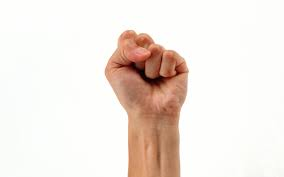fist: (101, 27, 193, 127)
